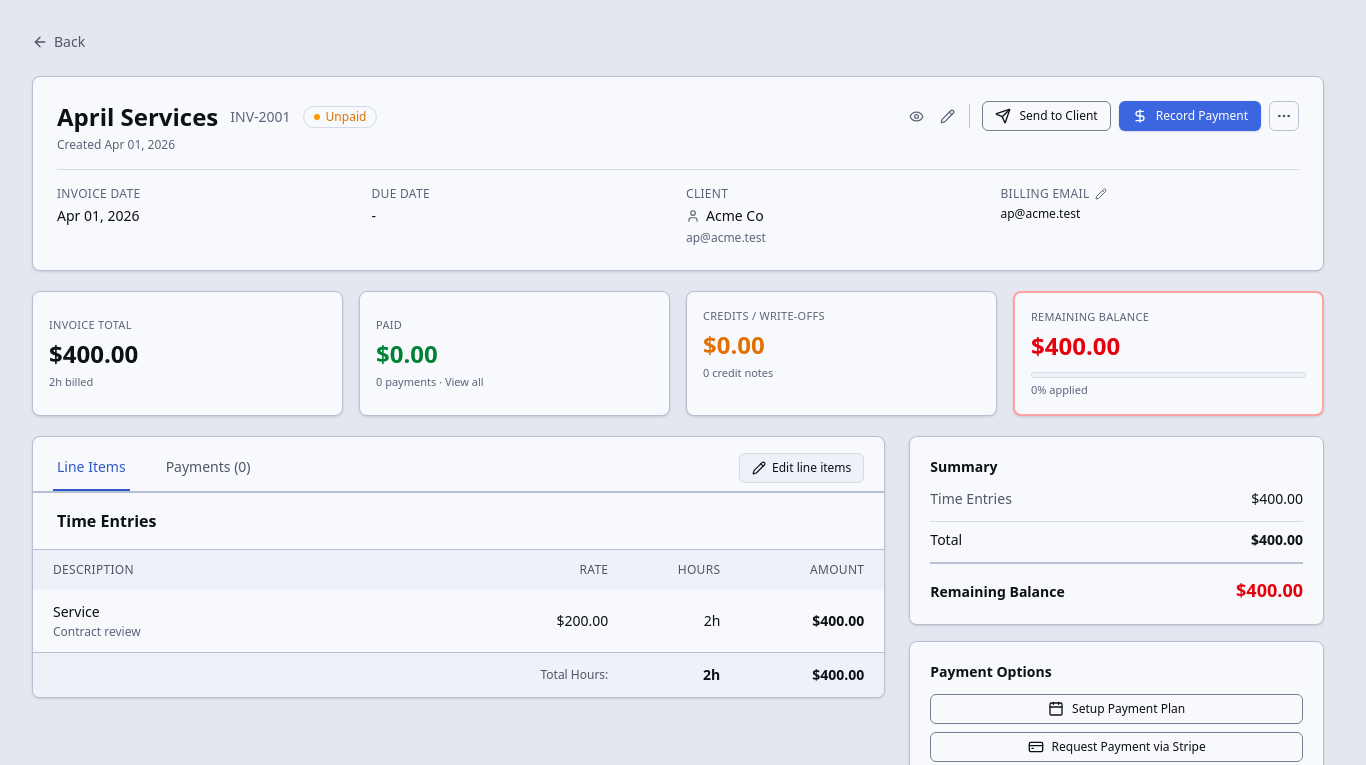
it: Download LEDES › reports a refused export instead of doing nothing
Step 1. Click the button named "More actions" → [1284, 116], box x1=1269 y1=101 x2=1299 y2=131
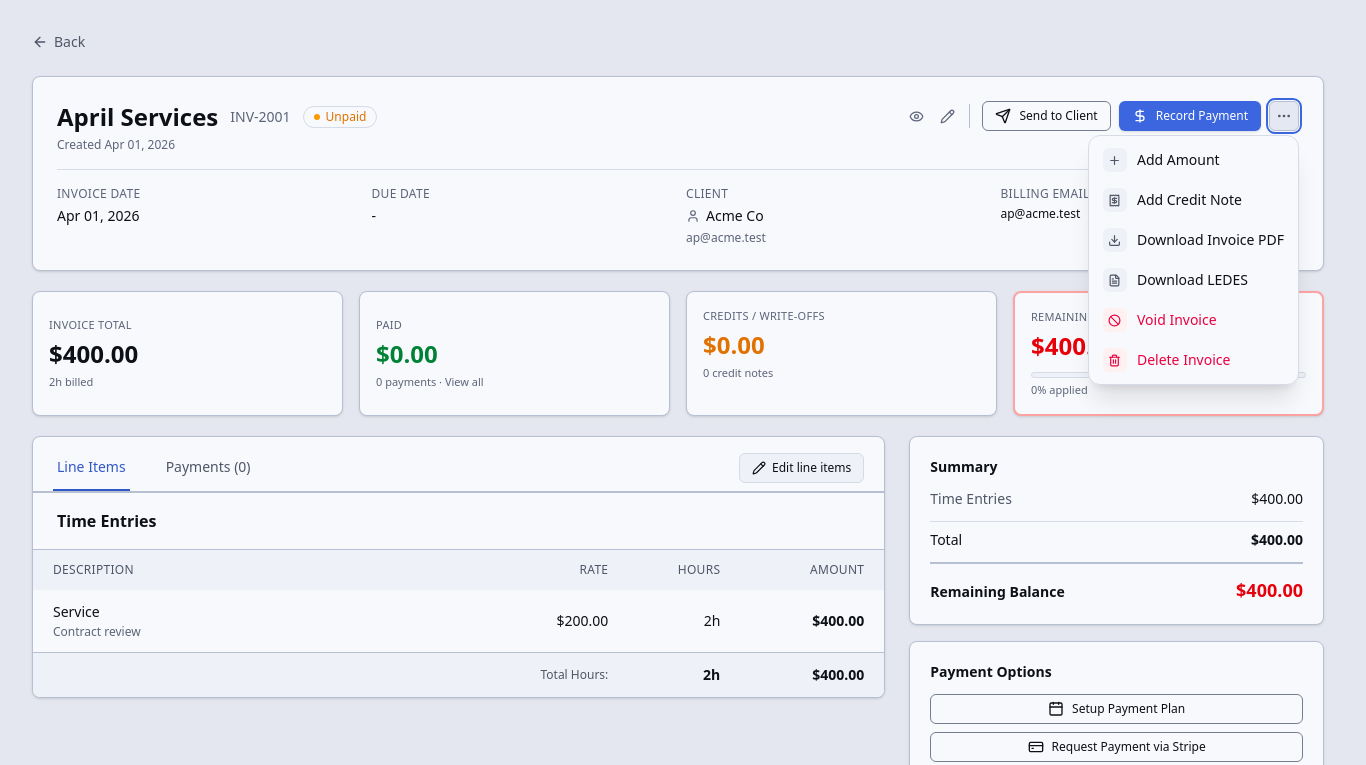
Step 2. Click the button "Download LEDES" → [1193, 280], box x1=1093 y1=260 x2=1294 y2=300
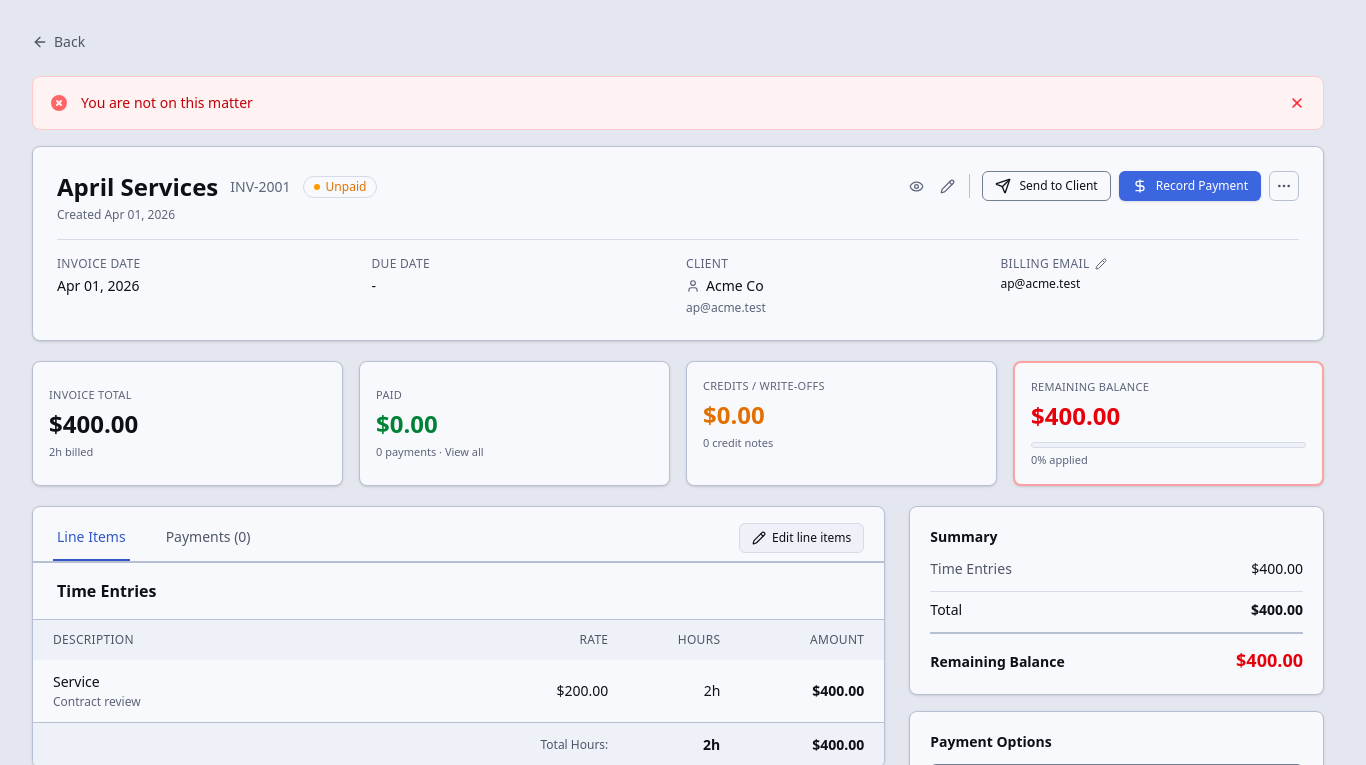
Expected: the text "You are not on this matter" is shown, x1=81 y1=93 x2=253 y2=112
